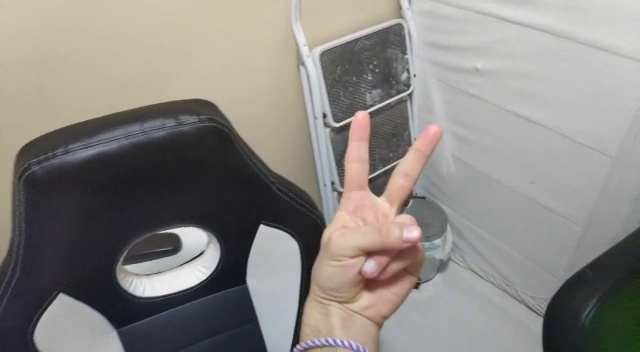Peace: (312, 109, 445, 326)
